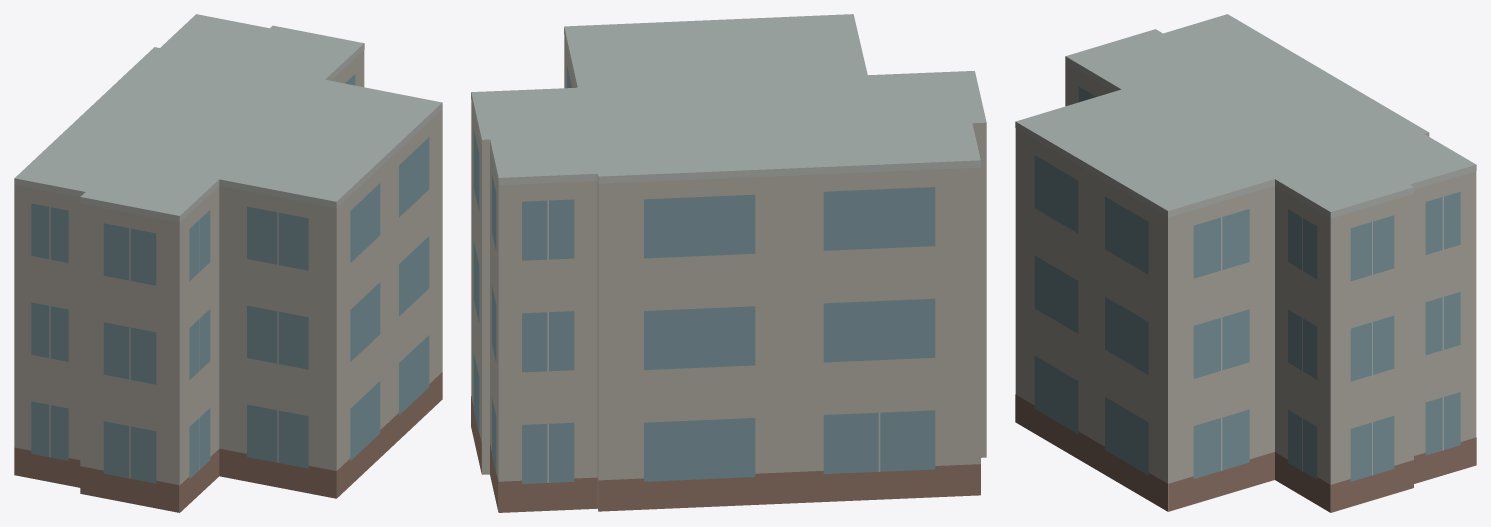
File: survey-upis-32691859.glb
3 renders of one model, left to right at view 1: azimuth 30°, elevation 25°; view 2: azimuth 150°, elevation 25°; view 3: azimuth 270°, elevation 25°, orthographic. The views are drawn at different scales.
Visible parts, largest first — view 1: survey-upis-32691859.tmp; view 2: survey-upis-32691859.tmp; view 3: survey-upis-32691859.tmp.
Boxes of the visible parts, x1,y1,x2,y2 form: survey-upis-32691859.tmp: (14,14,442,512); survey-upis-32691859.tmp: (471,14,986,512); survey-upis-32691859.tmp: (1015,14,1476,512).
Bounding box in the file's own units: 16.04 × 11.35 × 15.78.
